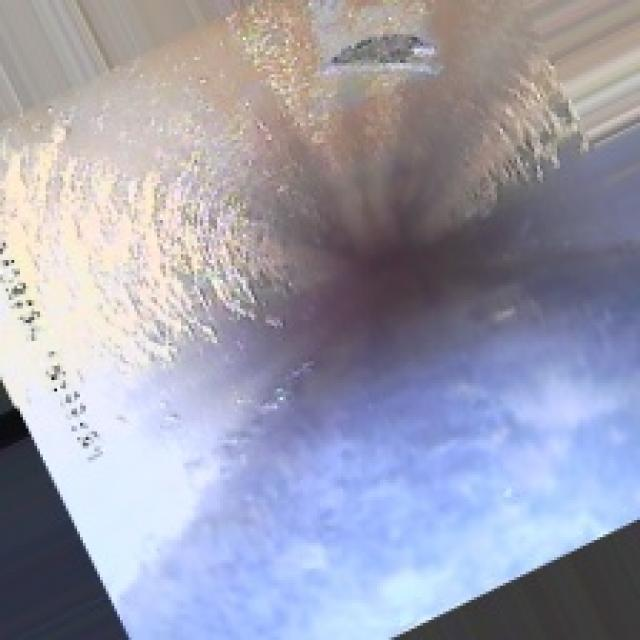pipe_surface_damage: (317, 17, 443, 77)
